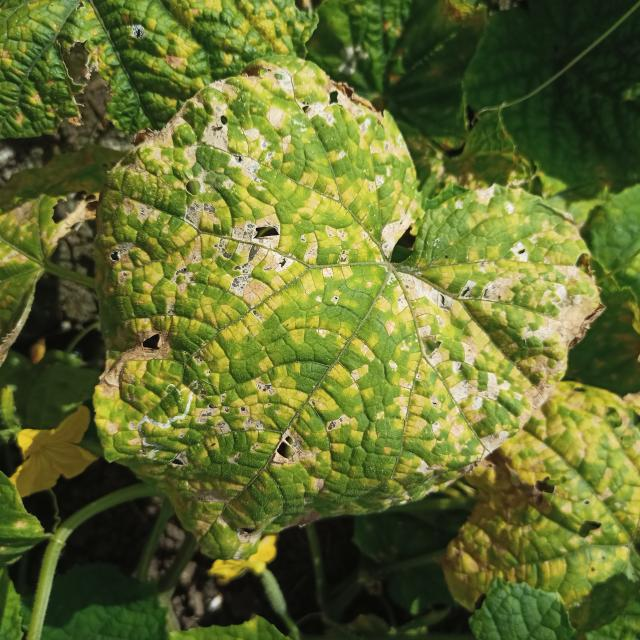disease_cucumber: (100, 70, 574, 544), (444, 376, 640, 609)
